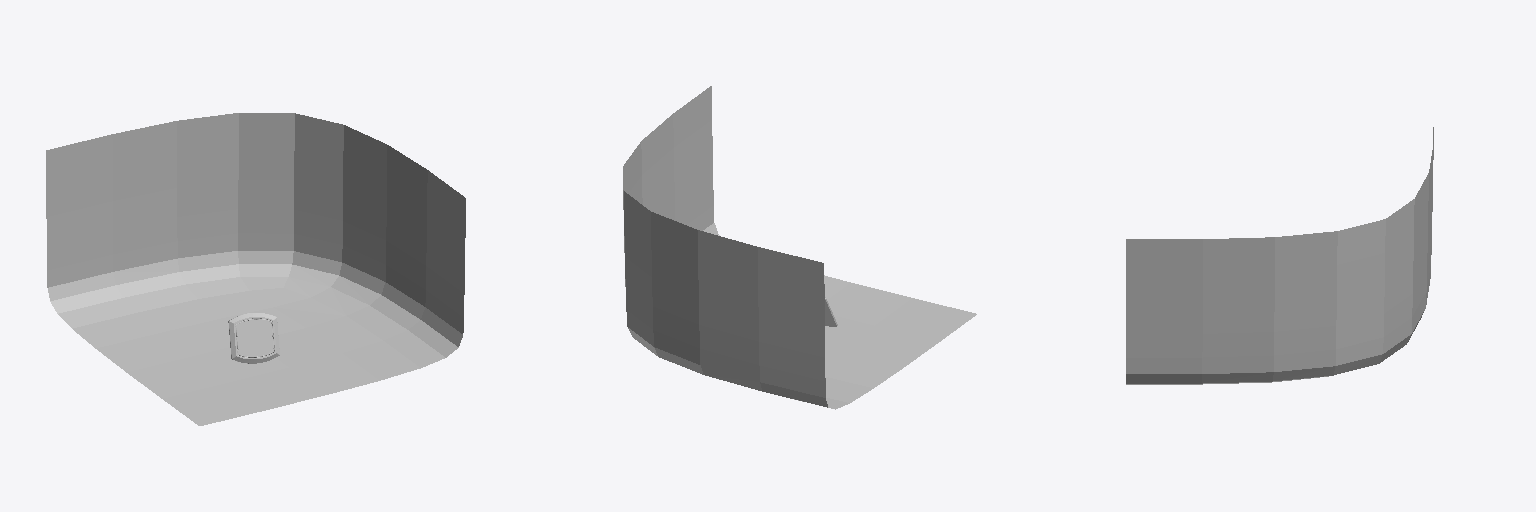
The model's file is Quartz wall Clock 3d model.obj.
The picture shows the model from 3 angles: view 1: azimuth 30°, elevation 25°; view 2: azimuth 150°, elevation 25°; view 3: azimuth 270°, elevation 25°; orthographic projection.
Parts seen in each view (by area): view 1: Plane001, Quartz_wall_Clock_Relish3d; view 2: Plane001; view 3: Plane001.
Boxes of the visible parts, x1,y1,x2,y2 form: Plane001: [46, 113, 465, 425]; Quartz_wall_Clock_Relish3d: [228, 313, 279, 363]; Plane001: [623, 86, 976, 409]; Plane001: [1126, 127, 1433, 384].
Size of the model in its own units: 186 by 109 by 186.